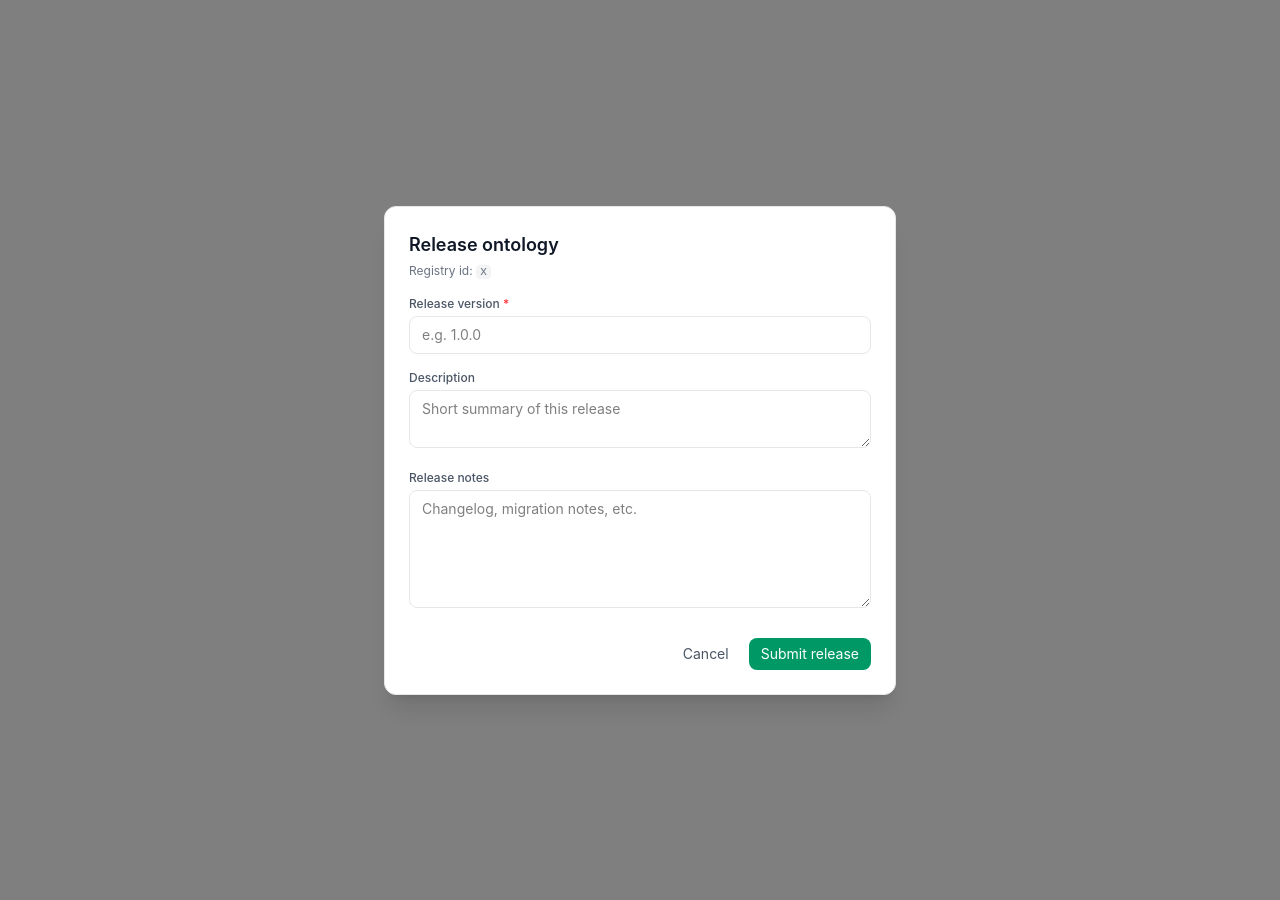
Test case: OntologyReleaseDialog › blocks empty version
Click the button "Submit release": (810,654) [749,638,871,670]
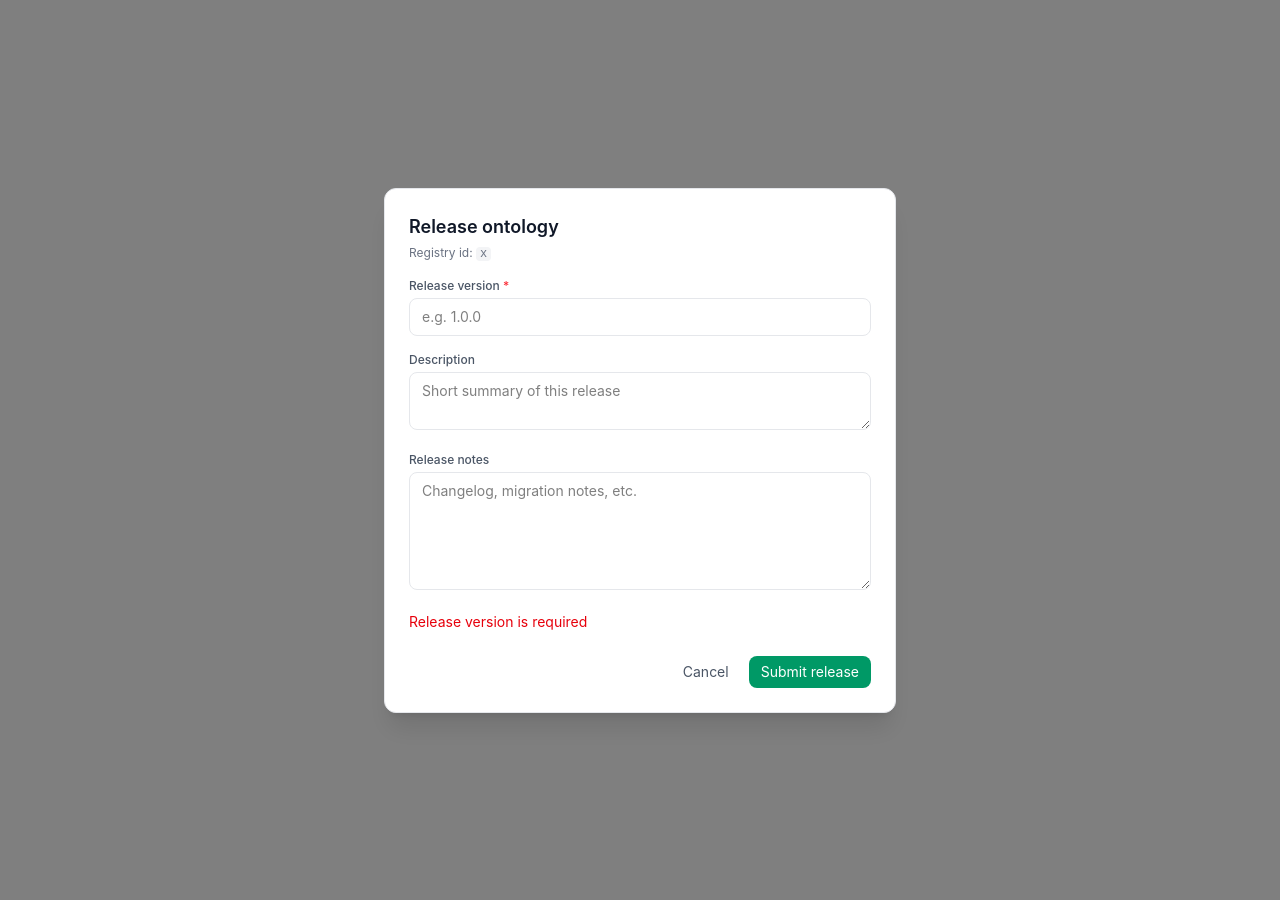
Result: the text "Release version is required" is shown at [409,612,587,630]
